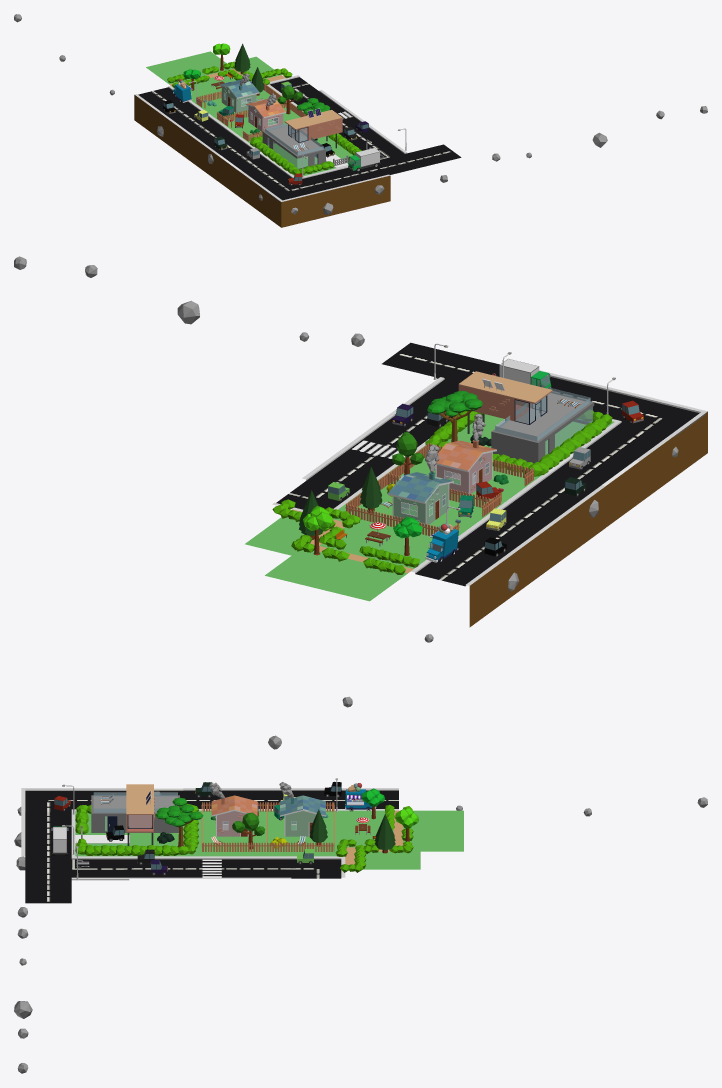
Rendered from mapacity1.glb.
3 views of the same model, one above another, from view 1: azimuth 30°, elevation 25°; view 2: azimuth 150°, elevation 25°; view 3: azimuth 270°, elevation 25° (orthographic). The views are drawn at different scales.
Parts seen in each view (by area): view 1: Villa_Colore_0.002, Plane.012_Colore_0.002, Plane.170_Colore_0.002, Plane.005_Colore_0.002, Plane.006_Colore_0.002, Villa_Vetro_0.002, Casa.003_Colore_0.002, Casa.004_Colore_0.002, Plane.004_Colore_0.002, Plane.003_Colore_0.002, Plane.002_Colore_0.002, Plane.018_Texture_Strada_0.002 (+21 smaller); view 2: Villa_Colore_0.002, Plane.170_Colore_0.002, Casa.003_Colore_0.002, Casa.004_Colore_0.002, Plane.168_Colore_0.002, Villa_Vetro_0.002, Plane.012_Colore_0.002, Plane.004_Colore_0.002, Plane.003_Colore_0.002, Plane.014_Colore_0.002, Plane.018_Texture_Strada_0.002, Plane.002_Colore_0.002 (+25 smaller); view 3: Villa_Colore_0.002, Plane.170_Colore_0.002, Plane.168_Colore_0.002, Casa.003_Colore_0.002, Casa.004_Colore_0.002, Plane.007_Texture_Strada_0.002, Plane.018_Texture_Strada_0.002, Plane.024_Texture_Strada_0.002, Fences_Colore_0.002, Plane.026_Texture_Strada_0.002, Plane.027_Texture_Strada_0.002, Icosphere.007_Colore_0.002 (+20 smaller).
Part boxes in pixels (x1,y1,x2,y2): Villa_Colore_0.002: (262,110,342,169); Plane.012_Colore_0.002: (260,186,317,227); Plane.170_Colore_0.002: (146,51,236,86); Plane.005_Colore_0.002: (302,169,354,218); Plane.006_Colore_0.002: (333,165,390,209); Villa_Vetro_0.002: (265,123,323,168); Casa.003_Colore_0.002: (219,79,259,112); Casa.004_Colore_0.002: (245,99,286,131); Plane.004_Colore_0.002: (176,116,233,165); Plane.003_Colore_0.002: (239,162,294,211); Plane.002_Colore_0.002: (197,132,254,181); Plane.018_Texture_Strada_0.002: (408,144,461,166); Villa_Colore_0.002: (458,371,594,463); Plane.170_Colore_0.002: (265,544,413,601); Casa.003_Colore_0.002: (388,472,453,526); Casa.004_Colore_0.002: (435,440,496,494); Plane.168_Colore_0.002: (245,509,385,555); Villa_Vetro_0.002: (495,387,592,454); Plane.012_Colore_0.002: (615,397,707,477); Plane.004_Colore_0.002: (479,497,571,577); Plane.003_Colore_0.002: (581,422,673,502); Plane.014_Colore_0.002: (411,559,503,627); Plane.018_Texture_Strada_0.002: (382,342,469,377); Plane.002_Colore_0.002: (513,472,605,552); Villa_Colore_0.002: (91,784,179,845); Plane.170_Colore_0.002: (393,810,463,851); Plane.168_Colore_0.002: (345,833,420,869); Casa.003_Colore_0.002: (280,795,325,836); Casa.004_Colore_0.002: (211,795,257,836); Plane.007_Texture_Strada_0.002: (25,857,71,880); Plane.018_Texture_Strada_0.002: (25,880,71,903); Plane.024_Texture_Strada_0.002: (71,859,129,877); Fences_Colore_0.002: (202,842,333,851); Plane.026_Texture_Strada_0.002: (183,859,237,877); Plane.027_Texture_Strada_0.002: (237,859,291,877); Icosphere.007_Colore_0.002: (84,845,188,855).
Bounding box in the file's own units: 95.21 × 13.39 × 104.
4 materials, 2 textured.
